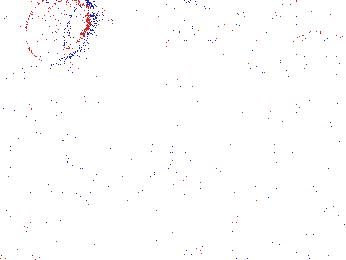moon jellyfish: (147, 6, 231, 79), (279, 31, 346, 105), (24, 1, 94, 66), (213, 11, 300, 44), (1, 29, 33, 106)
